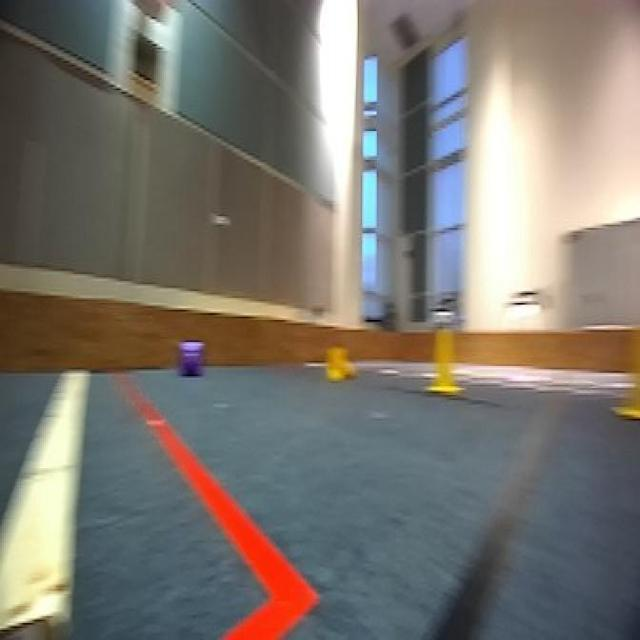frc_cone: (422, 322, 466, 393), (611, 329, 640, 417), (322, 344, 360, 383)
frc_cube: (178, 337, 205, 378)
